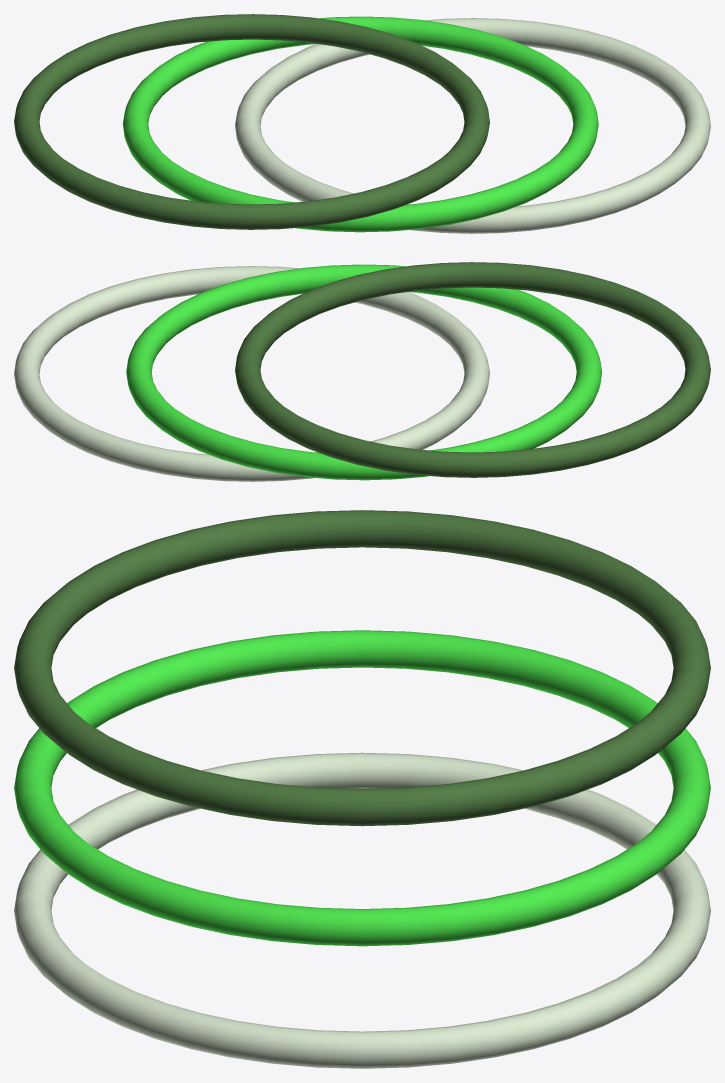
File: nalas.glb
3 views of the same model, one above another, from view 1: azimuth 30°, elevation 25°; view 2: azimuth 150°, elevation 25°; view 3: azimuth 270°, elevation 25° (orthographic). The views are drawn at different scales.
Parts seen in each view (by area): view 1: ejFAQW0Geh14, ejFAQW0Geh13, ejFAQW0Geh12; view 2: ejFAQW0Geh14, ejFAQW0Geh13, ejFAQW0Geh12; view 3: ejFAQW0Geh14, ejFAQW0Geh13, ejFAQW0Geh12.
Part boxes in pixels (bbox=[...]): ejFAQW0Geh14: bbox=[14, 14, 489, 229]; ejFAQW0Geh13: bbox=[123, 16, 598, 232]; ejFAQW0Geh12: bbox=[235, 18, 710, 233]; ejFAQW0Geh14: bbox=[235, 262, 710, 477]; ejFAQW0Geh13: bbox=[126, 264, 601, 480]; ejFAQW0Geh12: bbox=[14, 266, 489, 481]; ejFAQW0Geh14: bbox=[14, 510, 710, 826]; ejFAQW0Geh13: bbox=[14, 630, 710, 946]; ejFAQW0Geh12: bbox=[14, 752, 710, 1068].
Size of the model in its own units: 5.6 by 0.6852 by 3.65.
